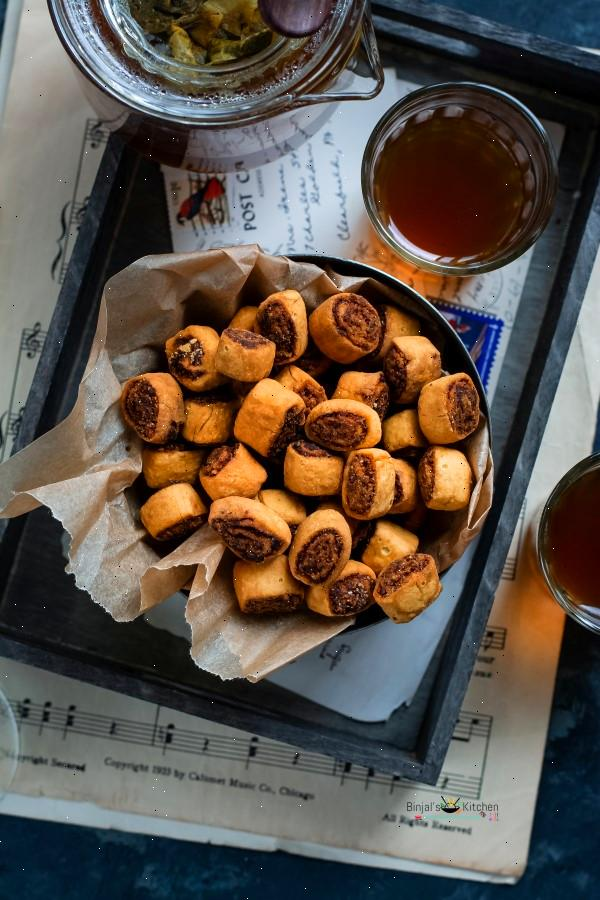bhakarwadi: (115, 285, 472, 621)
